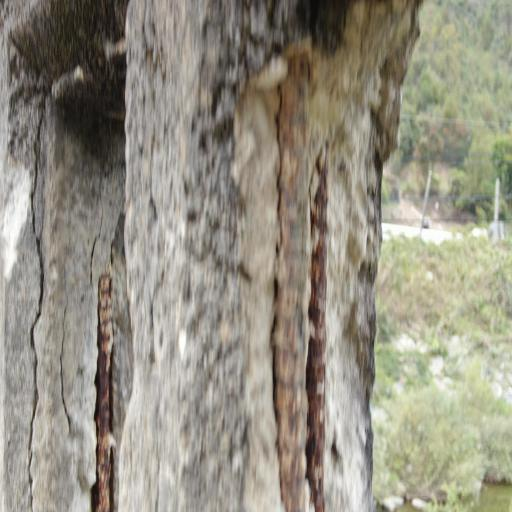exposed_rebar: (273, 52, 309, 510), (306, 144, 328, 512), (92, 263, 113, 512)
